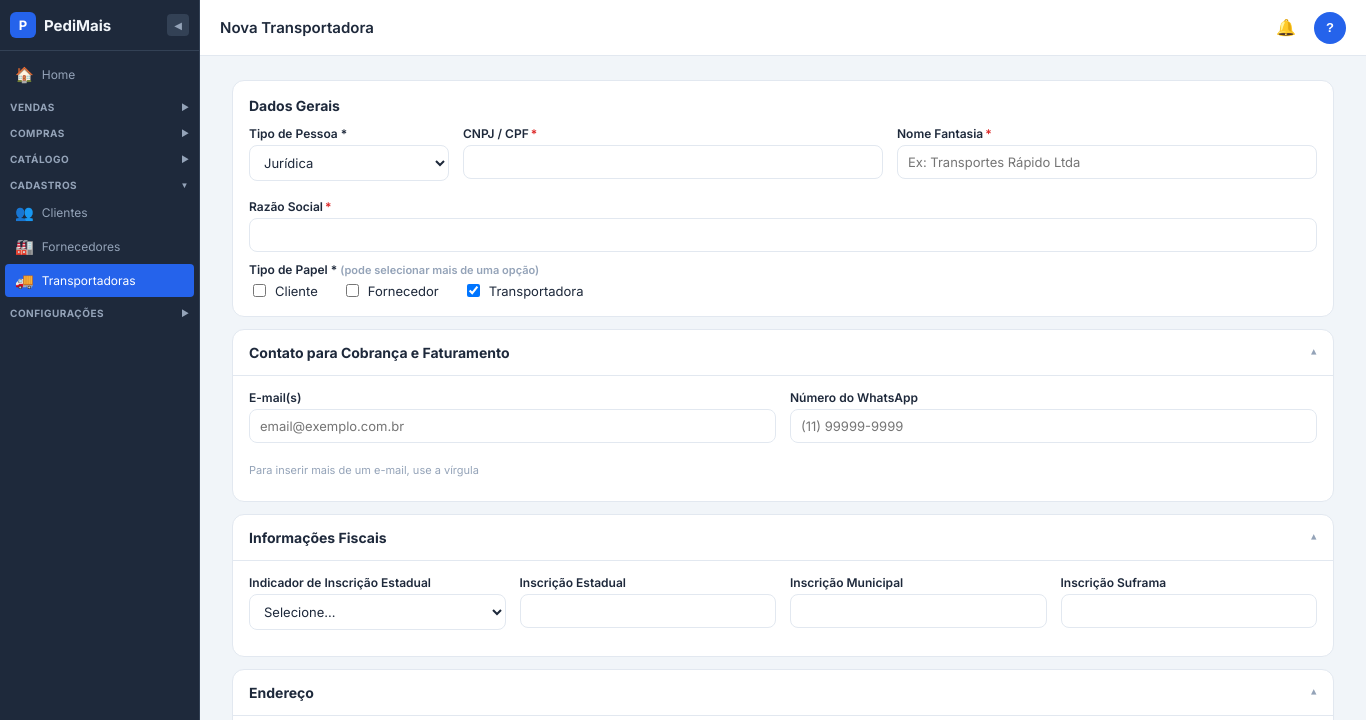
Scenario: TransportadoraFormView › requires at least one papel to be selected
The width and height of the screenshot is (1366, 720).
Type "Transportes Rápido Ltda" into the field with test id "nomeFantasia".
click(1107, 162); type("Transportes Rápido Ltda")  # box [897,145,1317,179]
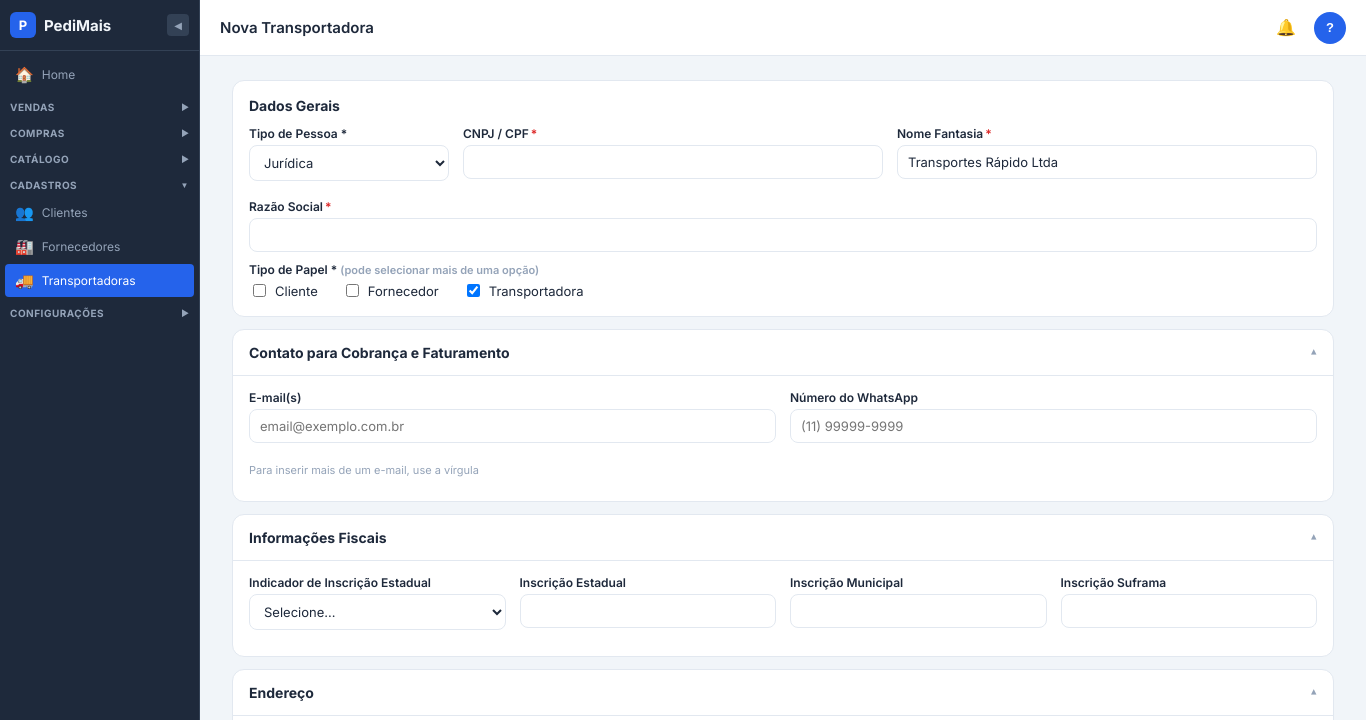
Type "Transportes Rápido Comércio LTDA" into the field with test id "razaoSocial".
click(783, 235); type("Transportes Rápido Comércio LTDA")  # box [249,218,1317,252]
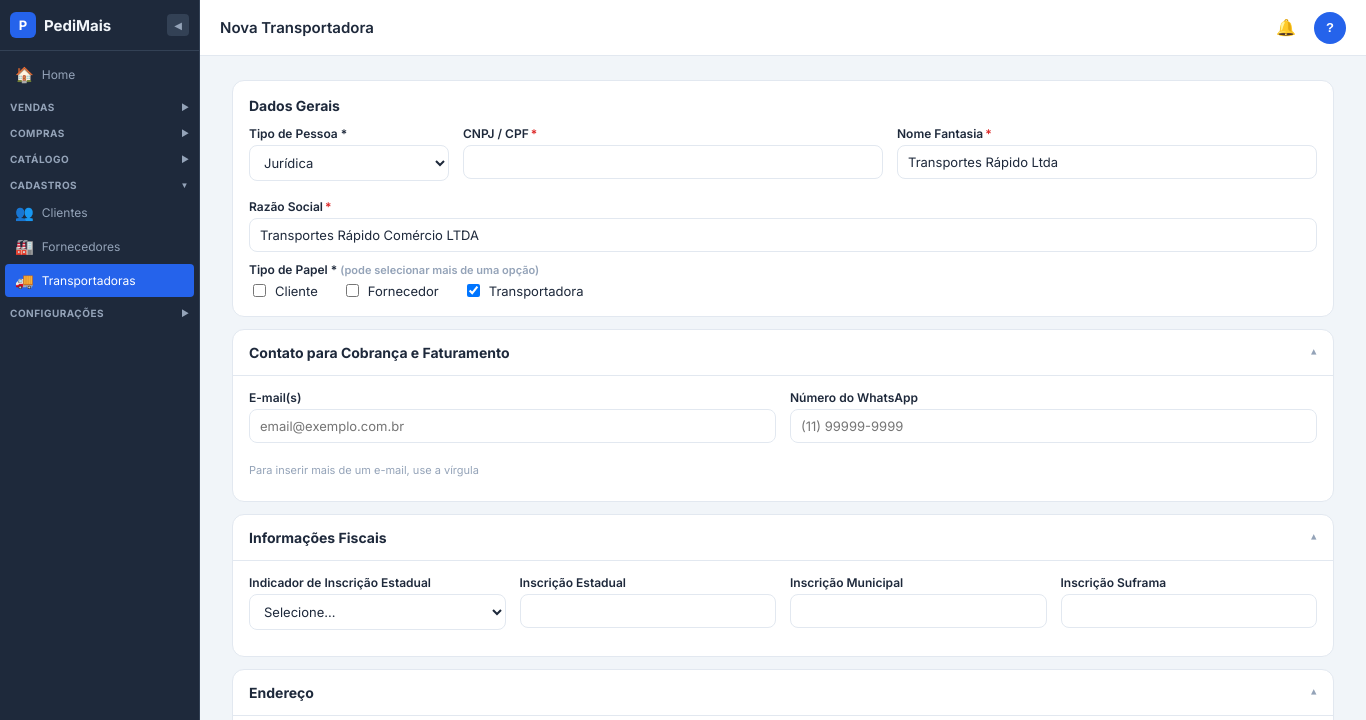
# Transportadora starts checked by default -- unchecking it leaves papeis empty.
Click the checkbox labelled "Transportadora".
click(473, 290)  # box [467,284,480,297]
(page scrolled)
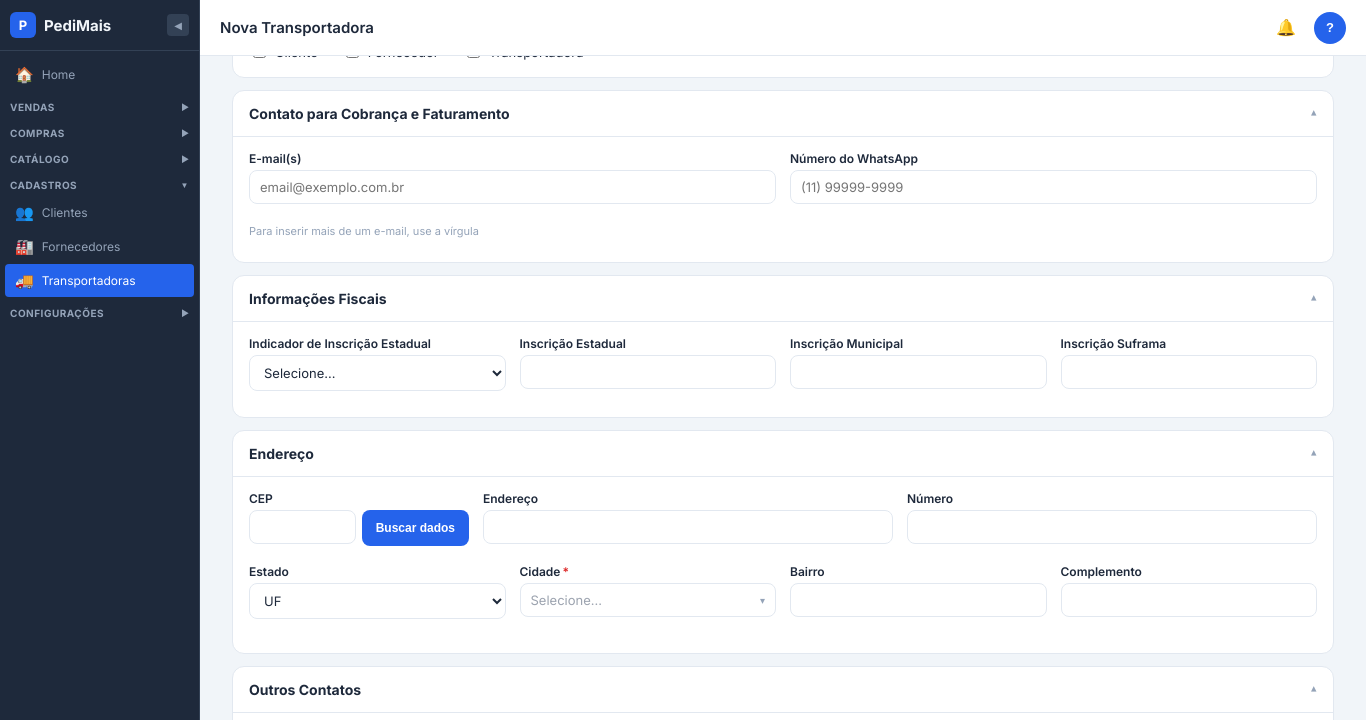
Submit the form
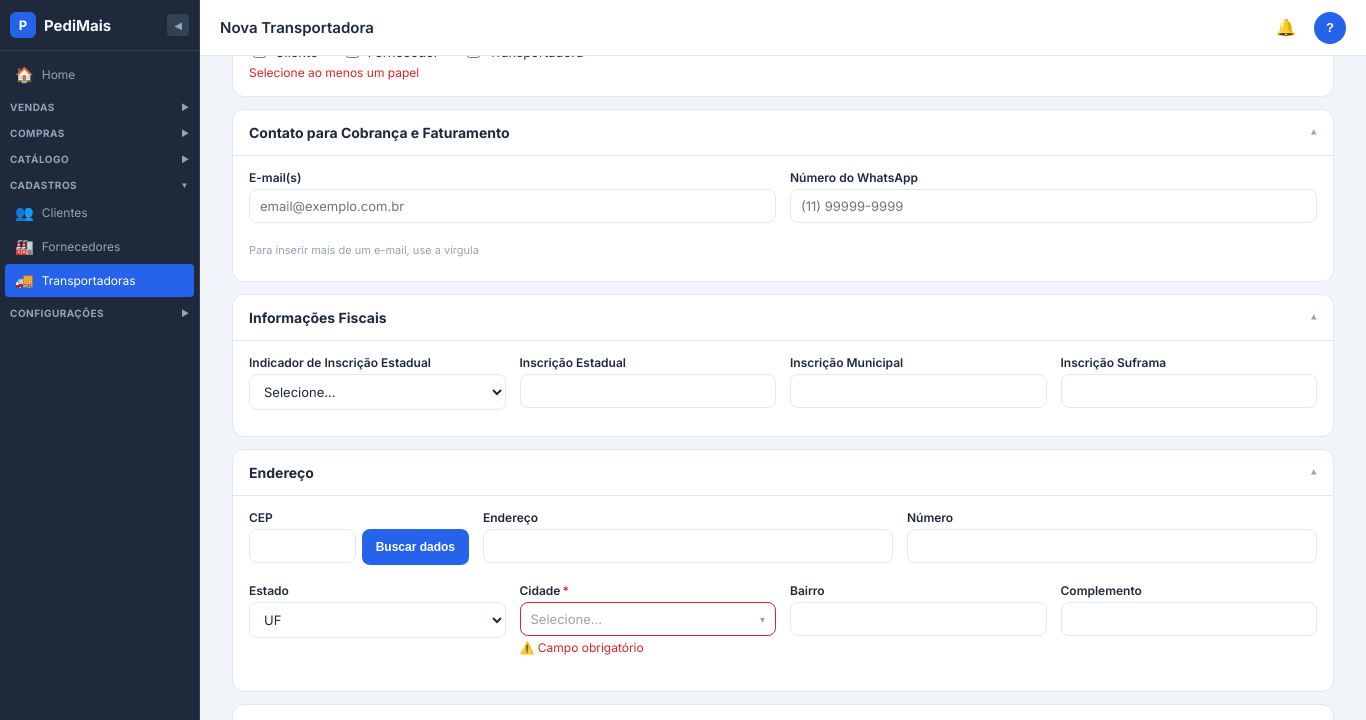
Check: the text "Selecione ao menos um papel" is shown, box [249,65,419,80]
